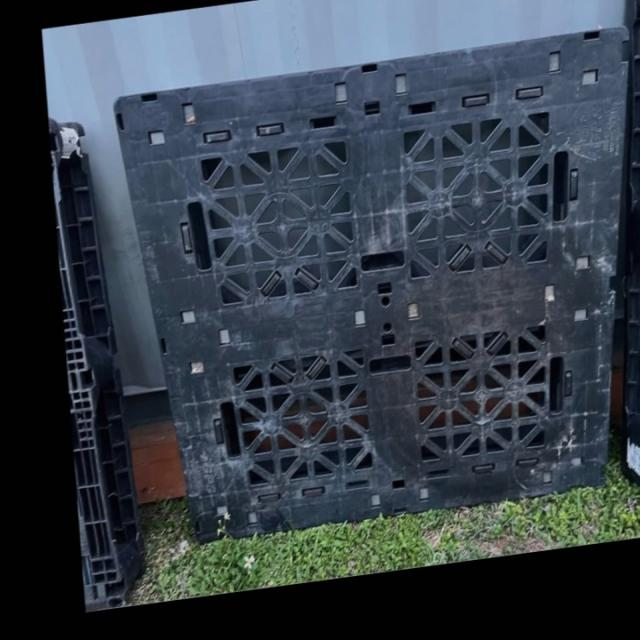igps: (108, 10, 640, 555)
